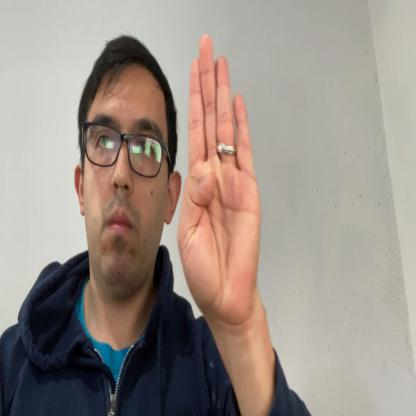B: (178, 33, 262, 327)
